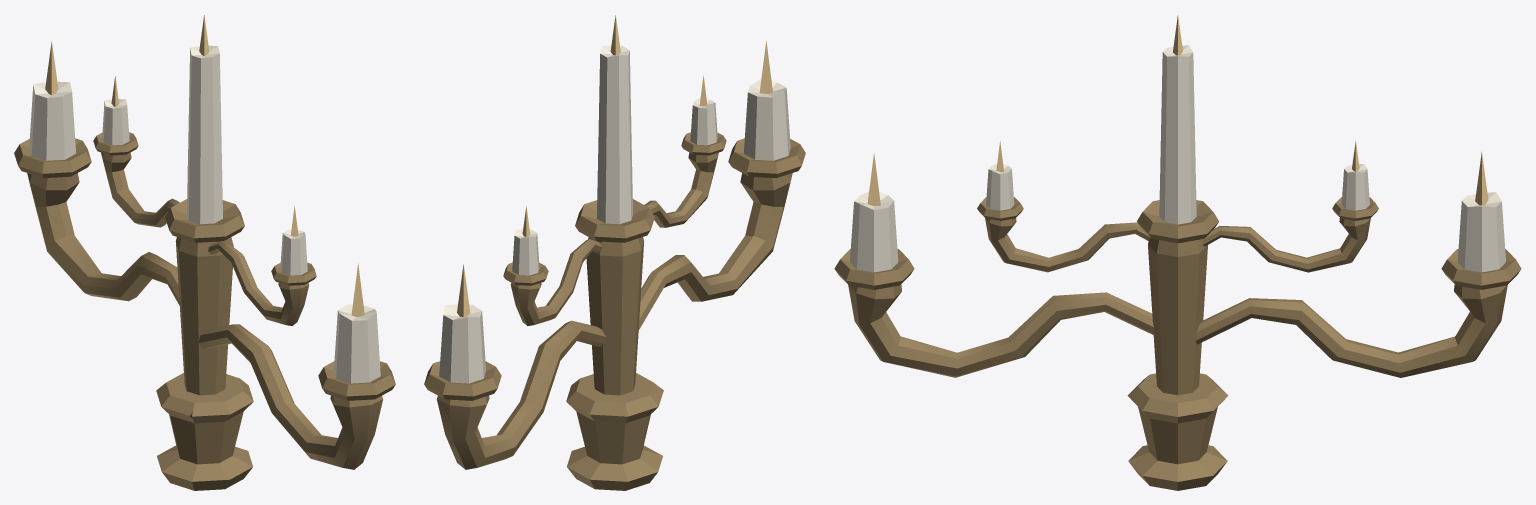
The model's file is Chandelier_1.fbx.
The picture shows the model from 3 angles, left to right: view 1: azimuth 30°, elevation 25°; view 2: azimuth 150°, elevation 25°; view 3: azimuth 270°, elevation 25°; orthographic projection.
Visible parts, largest first — view 1: group1_polySurface1266; view 2: group1_polySurface1266; view 3: group1_polySurface1266.
Boxes of the visible parts, x1,y1,x2,y2 form: group1_polySurface1266: [14, 15, 395, 490]; group1_polySurface1266: [424, 15, 805, 490]; group1_polySurface1266: [834, 15, 1521, 490].
Bounding box in the file's own units: 14.65 × 73.7 × 99.85.
